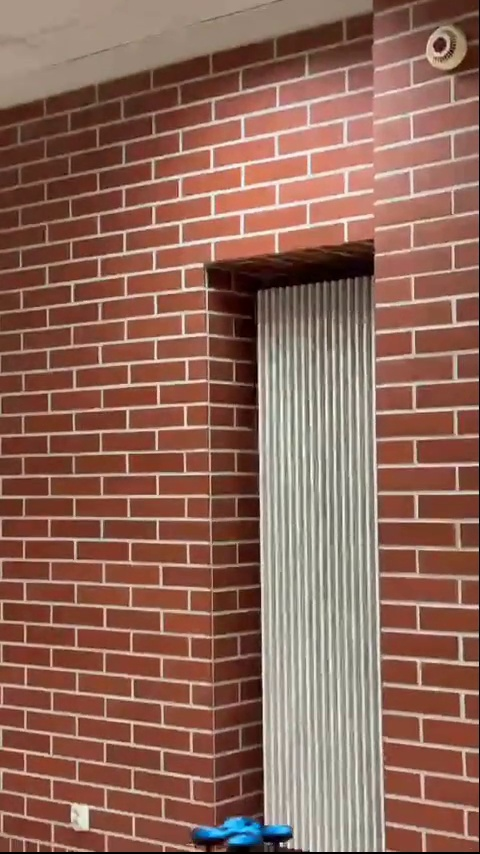drone: (194, 813, 293, 846)
